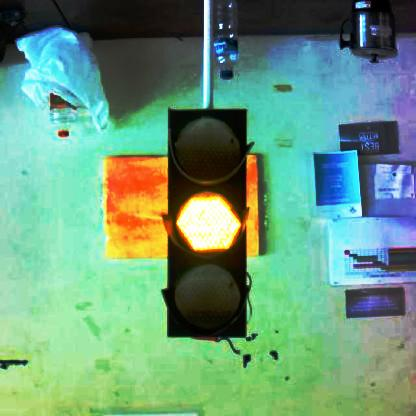Traffic Light -Yellow-: (164, 112, 254, 342)
